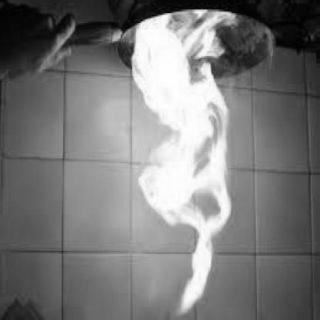Fire: (121, 13, 242, 317)
